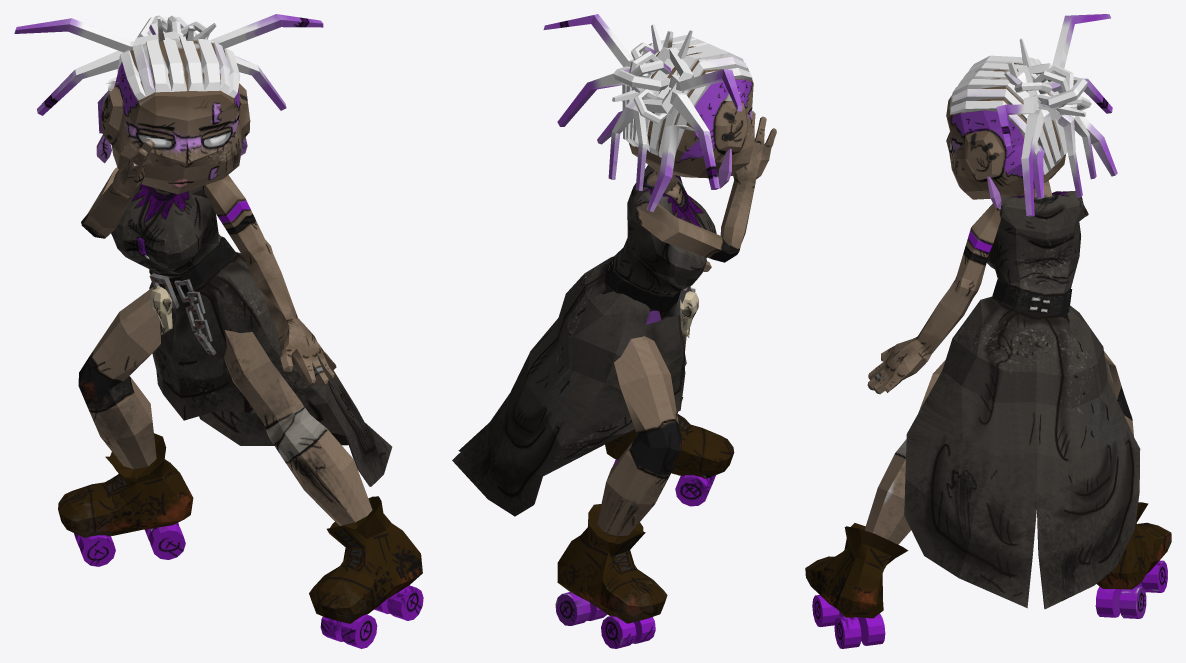
Rendered from bruja_000062.obj.
The picture shows the model from 3 angles, left to right: view 1: azimuth 30°, elevation 25°; view 2: azimuth 150°, elevation 25°; view 3: azimuth 270°, elevation 25°; orthographic projection. The views are drawn at different scales.
Visible parts, largest first — view 1: Bruja_Plane.001; view 2: Bruja_Plane.001; view 3: Bruja_Plane.001.
Boxes of the visible parts, box(x1,y1,x2,y2) form: Bruja_Plane.001: box(14, 14, 423, 648); Bruja_Plane.001: box(452, 14, 776, 648); Bruja_Plane.001: box(805, 14, 1171, 648).
Size of the model in its own units: 9.21 by 15.42 by 9.25.
